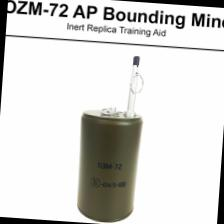OZM-72: (57, 79, 154, 224)
